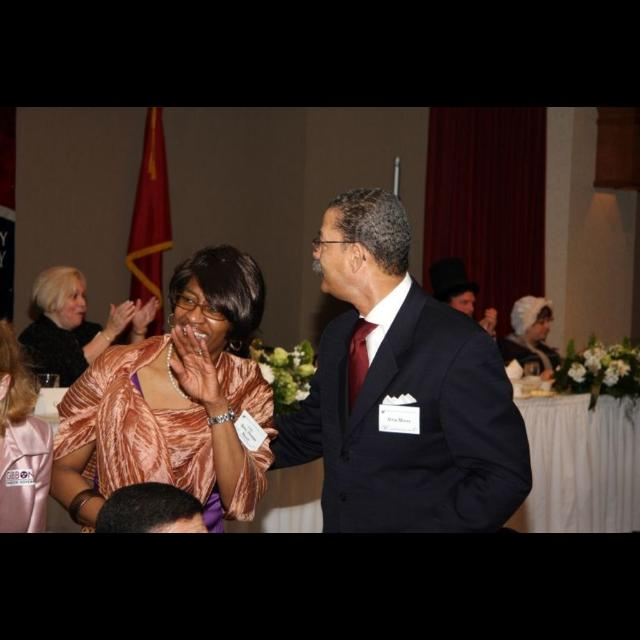Flower: (248, 346, 320, 404), (601, 344, 639, 386), (582, 346, 618, 372), (567, 362, 589, 384)
